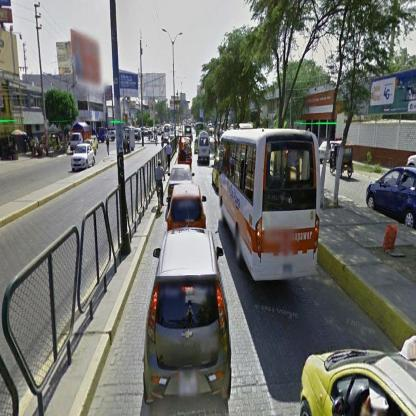Moto: (162, 135, 165, 149), (156, 135, 158, 147)
Peaton: (156, 161, 166, 213), (167, 143, 173, 174), (107, 137, 110, 157)
Pista: (90, 171, 408, 414), (1, 147, 167, 415), (1, 151, 116, 205), (322, 174, 385, 207)
Vehiculo: (143, 228, 233, 410), (220, 130, 321, 284), (302, 334, 416, 415), (366, 168, 416, 230), (168, 182, 207, 233), (330, 142, 355, 180), (168, 166, 194, 195), (73, 144, 96, 176), (72, 123, 91, 153), (178, 137, 193, 170), (198, 131, 211, 166), (213, 158, 220, 195), (85, 140, 97, 156), (196, 123, 205, 139), (91, 136, 99, 151), (185, 126, 193, 141), (195, 139, 200, 155)
